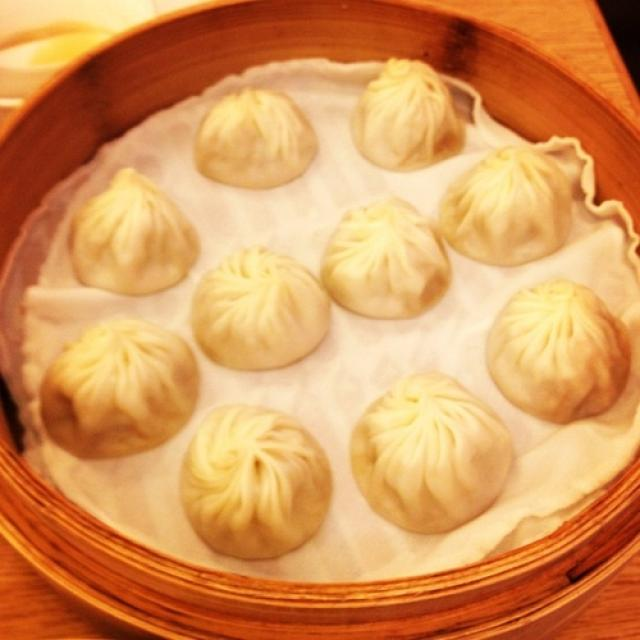带馅早点: (30, 32, 620, 581)
